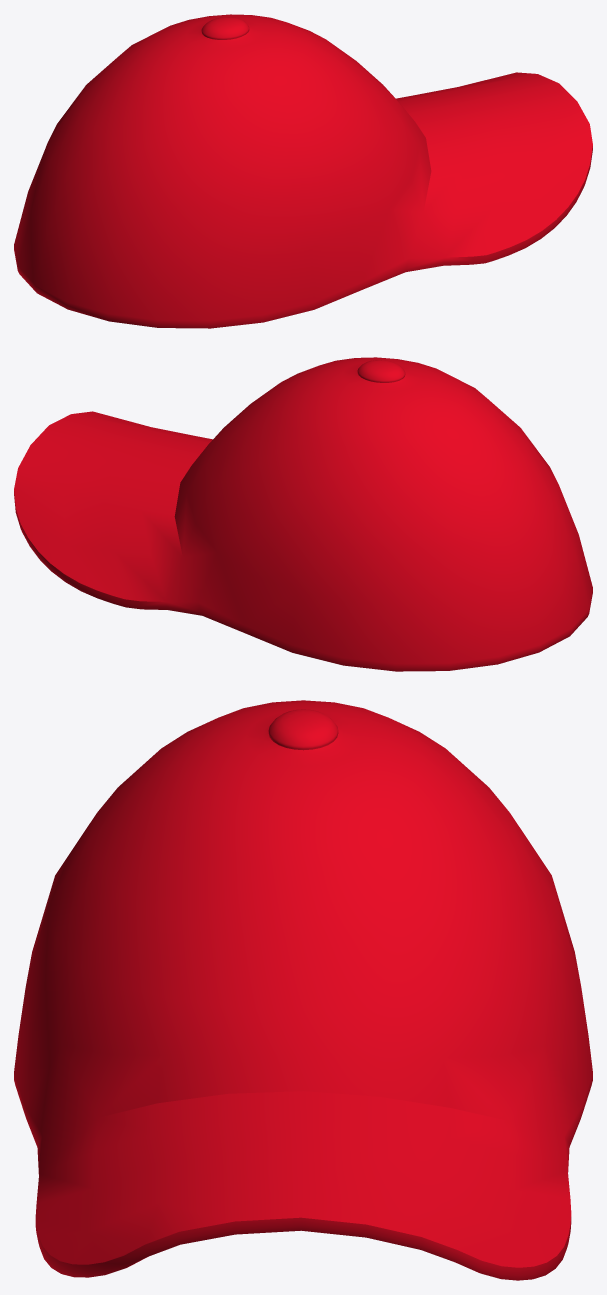
Rendered from Hat.fbx.
3 renders of one model, top to bottom at view 1: azimuth 30°, elevation 25°; view 2: azimuth 150°, elevation 25°; view 3: azimuth 270°, elevation 25°, orthographic. The views are drawn at different scales.
Parts seen in each view (by area): view 1: Sphere; view 2: Sphere; view 3: Sphere.
Part boxes in pixels (x1=…): Sphere: x1=14, y1=14, x2=592, y2=328; Sphere: x1=14, y1=357, x2=592, y2=671; Sphere: x1=14, y1=700, x2=592, y2=1280.
Size of the model in its own units: 255 by 106 by 149.
